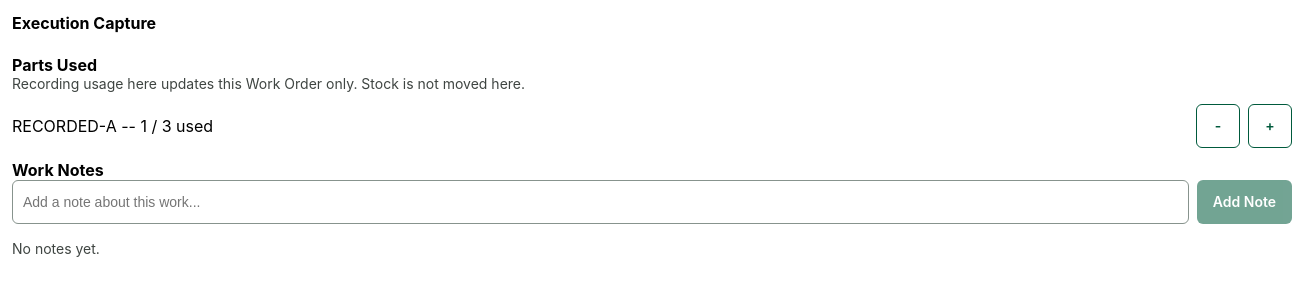
it: ExecutionCapture -- safe error copy (site-work #6) › a raw error WITH a message never leaks it; safe copy shown instead
Click the button "+".
click(1270, 126)  # box x1=1248 y1=104 x2=1292 y2=148
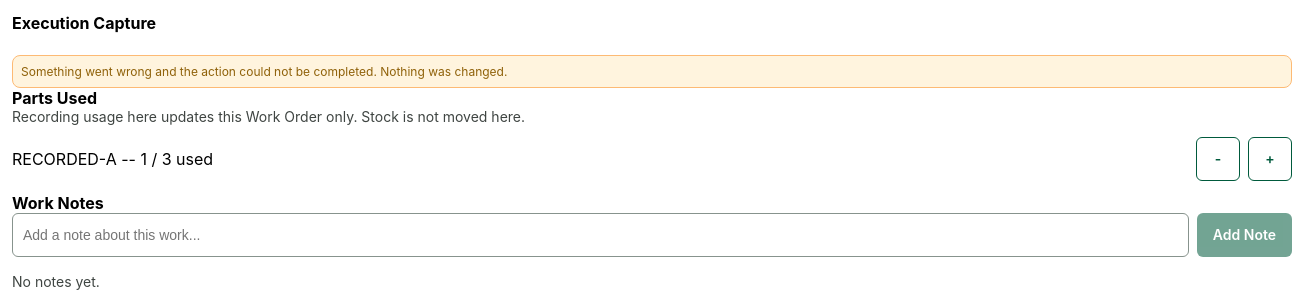
Now the message is shown, box x1=12 y1=54 x2=1292 y2=88
Now the message shows "Nothing was changed", box x1=21 y1=64 x2=507 y2=78
